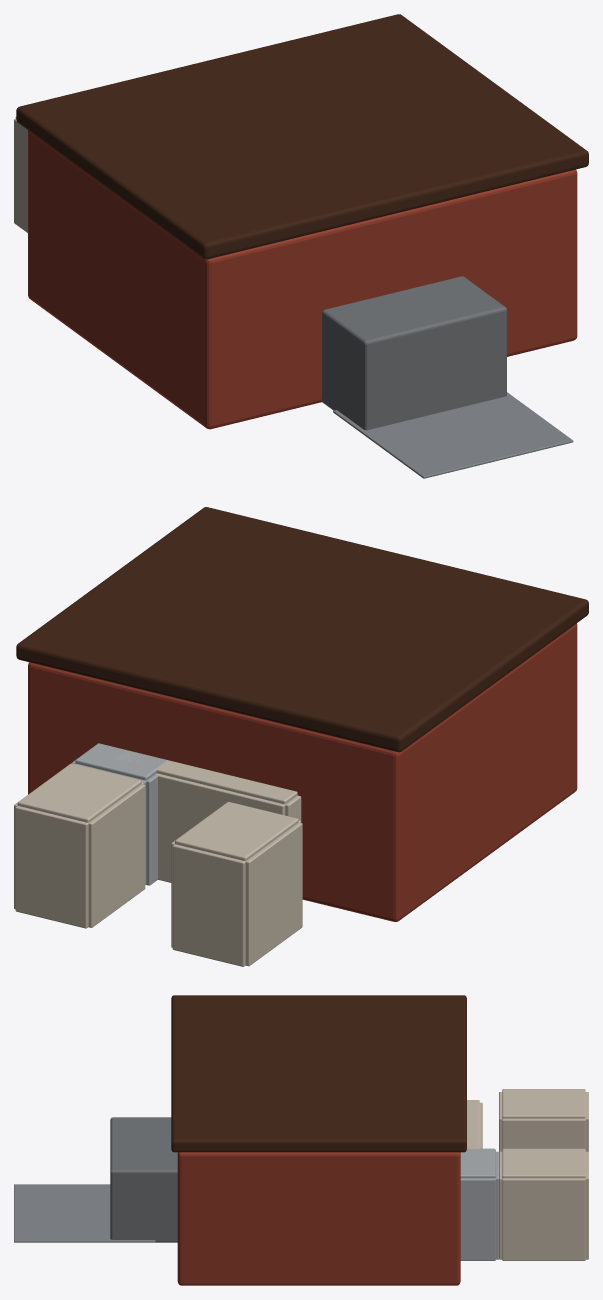
Rendered from BHC_BLD_63RD_SUBURBAN_011.fbx.
3 views of the same model, one above another, from view 1: azimuth 30°, elevation 25°; view 2: azimuth 150°, elevation 25°; view 3: azimuth 270°, elevation 25° (orthographic). The views are drawn at different scales.
Visible parts, largest first — view 1: SM_BHC_63rd_Suburban_011_Roof, SM_BHC_63rd_Suburban_011_Exterior, SM_BHC_63rd_Suburban_011_Garage, SM_BHC_63rd_Suburban_011_Driveway, SM_BHC_63rd_Suburban_011_BedroomA_Wall_W; view 2: SM_BHC_63rd_Suburban_011_Roof, SM_BHC_63rd_Suburban_011_Exterior, SM_BHC_63rd_Suburban_011_BedroomA_Wall_N, SM_BHC_63rd_Suburban_011_BedroomB_Wall_N, SM_BHC_63rd_Suburban_011_BedroomB_Wall_W, SM_BHC_63rd_Suburban_011_BedroomA_Wall_W, SM_BHC_63rd_Suburban_011_Living_Wall_N, SM_BHC_63rd_Suburban_011_BedroomB_Ceiling, SM_BHC_63rd_Suburban_011_BedroomA_Ceiling, SM_BHC_63rd_Suburban_011_Living_Ceiling, SM_BHC_63rd_Suburban_011_Bath_Ceiling, SM_BHC_63rd_Suburban_011_Bath_Wall_W; view 3: SM_BHC_63rd_Suburban_011_Roof, SM_BHC_63rd_Suburban_011_Exterior, SM_BHC_63rd_Suburban_011_Garage, SM_BHC_63rd_Suburban_011_BedroomB_Wall_E, SM_BHC_63rd_Suburban_011_Driveway, SM_BHC_63rd_Suburban_011_Bath_Wall_E, SM_BHC_63rd_Suburban_011_BedroomA_Wall_E, SM_BHC_63rd_Suburban_011_BedroomB_Ceiling, SM_BHC_63rd_Suburban_011_BedroomA_Ceiling, SM_BHC_63rd_Suburban_011_Bath_Ceiling, SM_BHC_63rd_Suburban_011_Living_Ceiling, SM_BHC_63rd_Suburban_011_BedroomB_Wall_N (+1 smaller).
Part boxes in pixels (x1,y1,x2,y2): SM_BHC_63rd_Suburban_011_Roof: [16, 14, 588, 259]; SM_BHC_63rd_Suburban_011_Exterior: [28, 130, 577, 429]; SM_BHC_63rd_Suburban_011_Garage: [321, 276, 506, 430]; SM_BHC_63rd_Suburban_011_Driveway: [333, 392, 573, 478]; SM_BHC_63rd_Suburban_011_BedroomA_Wall_W: [14, 118, 28, 232]; SM_BHC_63rd_Suburban_011_Roof: [16, 507, 588, 752]; SM_BHC_63rd_Suburban_011_Exterior: [28, 623, 577, 921]; SM_BHC_63rd_Suburban_011_BedroomA_Wall_N: [172, 844, 245, 966]; SM_BHC_63rd_Suburban_011_BedroomB_Wall_N: [15, 806, 88, 928]; SM_BHC_63rd_Suburban_011_BedroomB_Wall_W: [88, 784, 145, 927]; SM_BHC_63rd_Suburban_011_BedroomA_Wall_W: [245, 822, 302, 966]; SM_BHC_63rd_Suburban_011_Living_Wall_N: [156, 773, 285, 882]; SM_BHC_63rd_Suburban_011_BedroomB_Ceiling: [17, 763, 141, 822]; SM_BHC_63rd_Suburban_011_BedroomA_Ceiling: [175, 802, 298, 861]; SM_BHC_63rd_Suburban_011_Living_Ceiling: [116, 751, 297, 804]; SM_BHC_63rd_Suburban_011_Bath_Ceiling: [75, 743, 166, 780]; SM_BHC_63rd_Suburban_011_Bath_Wall_W: [146, 773, 157, 885]; SM_BHC_63rd_Suburban_011_Roof: [171, 995, 466, 1152]; SM_BHC_63rd_Suburban_011_Exterior: [177, 1152, 460, 1285]; SM_BHC_63rd_Suburban_011_Garage: [110, 1117, 177, 1242]; SM_BHC_63rd_Suburban_011_BedroomB_Wall_E: [502, 1178, 585, 1260]; SM_BHC_63rd_Suburban_011_Driveway: [14, 1184, 155, 1242]; SM_BHC_63rd_Suburban_011_Bath_Wall_E: [460, 1178, 495, 1260]; SM_BHC_63rd_Suburban_011_BedroomA_Wall_E: [502, 1118, 585, 1148]; SM_BHC_63rd_Suburban_011_BedroomB_Ceiling: [502, 1148, 585, 1178]; SM_BHC_63rd_Suburban_011_BedroomA_Ceiling: [502, 1089, 585, 1118]; SM_BHC_63rd_Suburban_011_Bath_Ceiling: [460, 1148, 495, 1178]; SM_BHC_63rd_Suburban_011_Living_Ceiling: [467, 1100, 479, 1148]; SM_BHC_63rd_Suburban_011_BedroomB_Wall_N: [585, 1151, 588, 1259].
Bounding box in the file's own units: 10.8 × 5.12 × 17.9.
